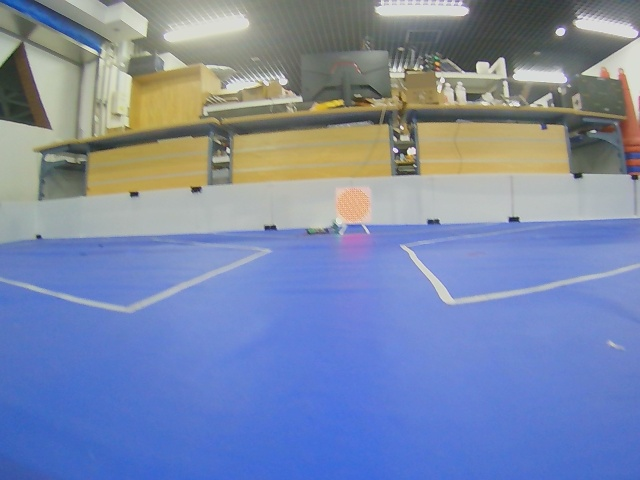red: (336, 187, 372, 224)
